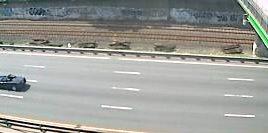car: (1, 71, 28, 92)
